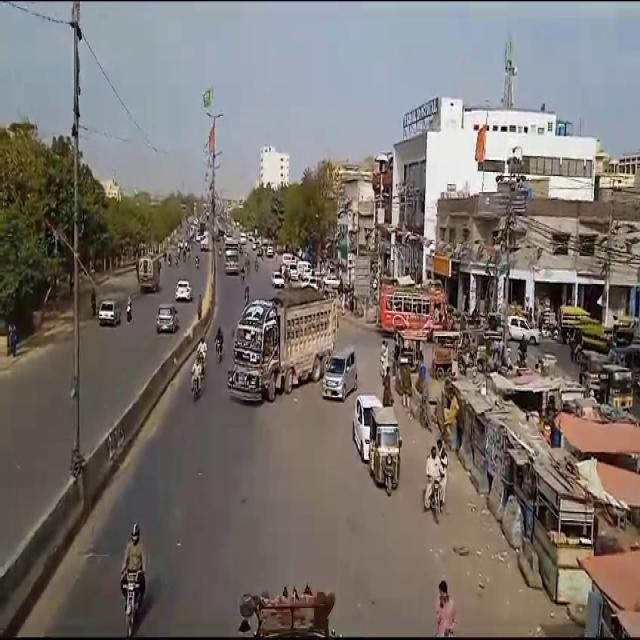car: (354, 396, 383, 460), (507, 315, 541, 345), (156, 303, 178, 333), (98, 302, 119, 326), (174, 282, 192, 302), (272, 271, 284, 288)
motorbike: (118, 522, 153, 638)
truck: (231, 280, 344, 398)
